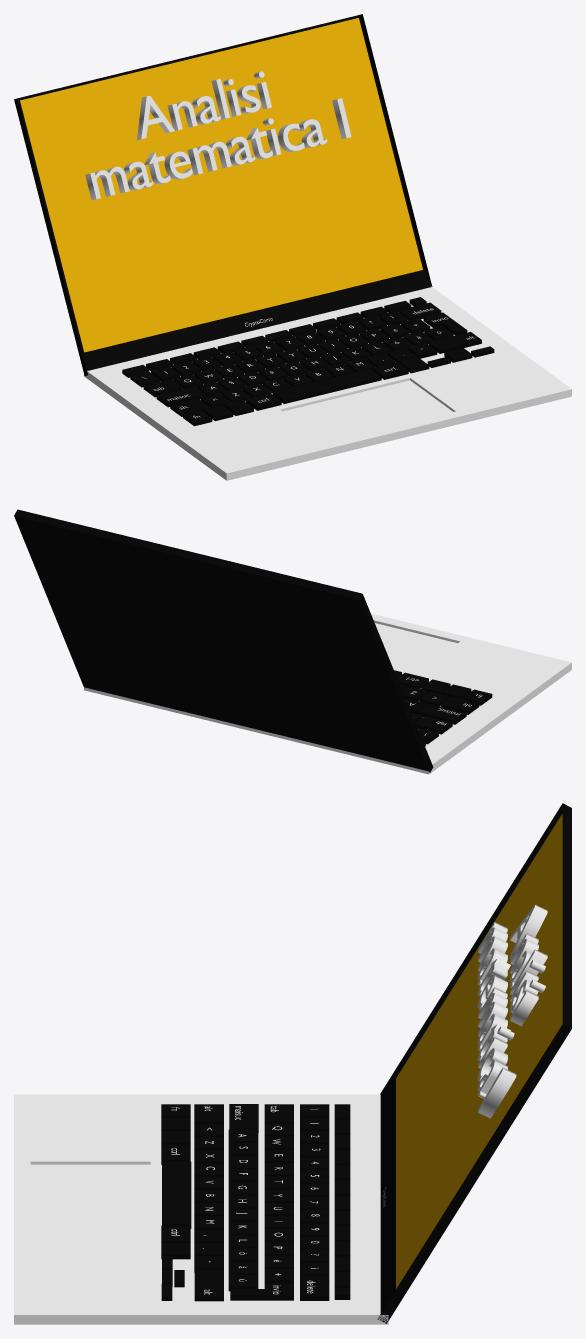
File: analisi.glb
3 views of the same model, one above another, from view 1: azimuth 30°, elevation 25°; view 2: azimuth 150°, elevation 25°; view 3: azimuth 270°, elevation 25° (orthographic). The views are drawn at different scales.
Parts seen in each view (by area): view 1: Cube.073, Cube, Cube.074, Text.001, Cube.001, Text, Cube.072, Cube.123; view 2: Cube.001, Cube, Cube.065, Cube.064, Cube.066, Cube.071; view 3: Cube, Cube.073, Cube.001, Text.001, Cube.074, Text, Cube.072, Cube.123, Cube.065, Cube.027.
Part boxes in pixels (x1=…): Cube.073: x1=20, y1=18, x2=422, y2=352; Cube: x1=84, y1=286, x2=571, y2=480; Cube.074: x1=82, y1=269, x2=431, y2=370; Text.001: x1=85, y1=98, x2=351, y2=200; Cube.001: x1=14, y1=14, x2=432, y2=375; Text: x1=137, y1=71, x2=271, y2=140; Cube.072: x1=272, y1=368, x2=381, y2=403; Cube.123: x1=428, y1=332, x2=481, y2=353; Cube.001: x1=14, y1=509, x2=433, y2=772; Cube: x1=84, y1=613, x2=571, y2=774; Cube.065: x1=417, y1=703, x2=466, y2=724; Cube.064: x1=440, y1=696, x2=479, y2=714; Cube.066: x1=415, y1=716, x2=452, y2=734; Cube.071: x1=397, y1=672, x2=428, y2=688; Cube: x1=14, y1=1094, x2=388, y2=1324; Cube.073: x1=396, y1=813, x2=562, y2=1288; Cube.001: x1=377, y1=803, x2=571, y2=1323; Text.001: x1=477, y1=922, x2=516, y2=1118; Cube.074: x1=380, y1=1077, x2=396, y2=1313; Text: x1=509, y1=904, x2=547, y2=1025; Cube.072: x1=162, y1=1161, x2=191, y2=1228; Cube.123: x1=194, y1=1269, x2=223, y2=1301; Cube.065: x1=229, y1=1104, x2=258, y2=1132; Cube.027: x1=300, y1=1276, x2=329, y2=1300.
Size of the model in its own units: 6.79 by 4.31 by 7.25.
